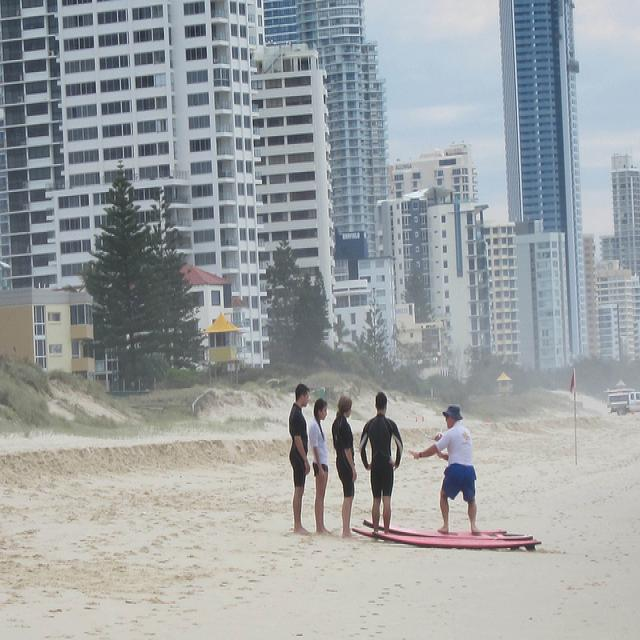Vehicle: (606, 392, 640, 415)
